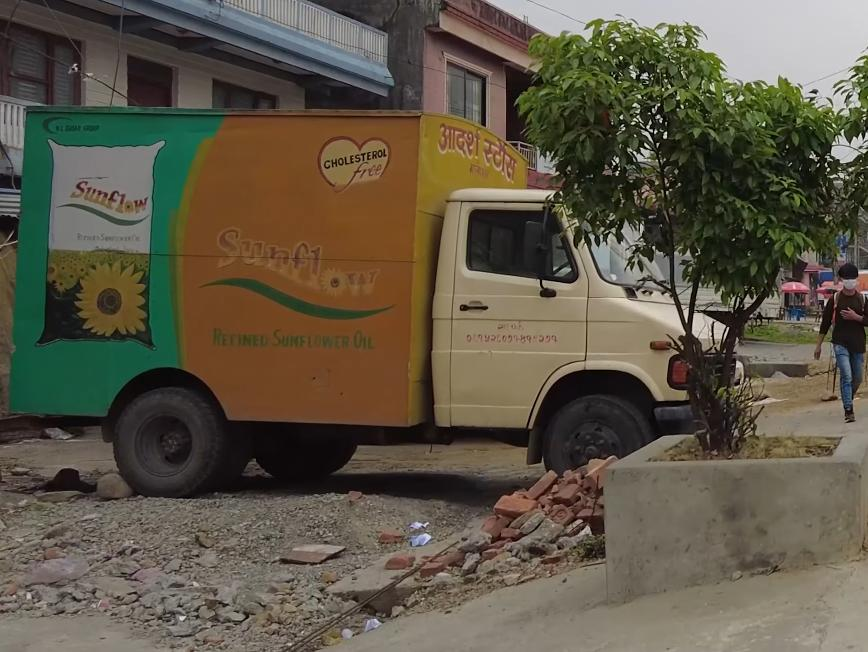mini_truck: (16, 89, 751, 488)
